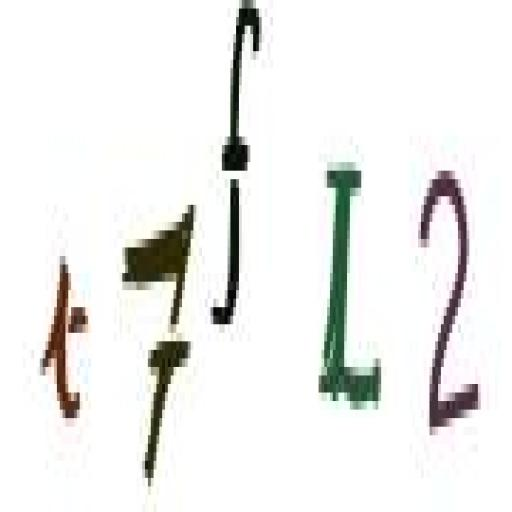2: (418, 150, 490, 446)
7: (116, 203, 200, 498)
L: (313, 146, 388, 426)
f: (212, 1, 258, 360)
t: (36, 230, 93, 448)
